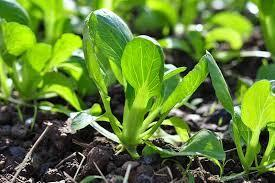Healthy-Pechay: (6, 1, 272, 122)
